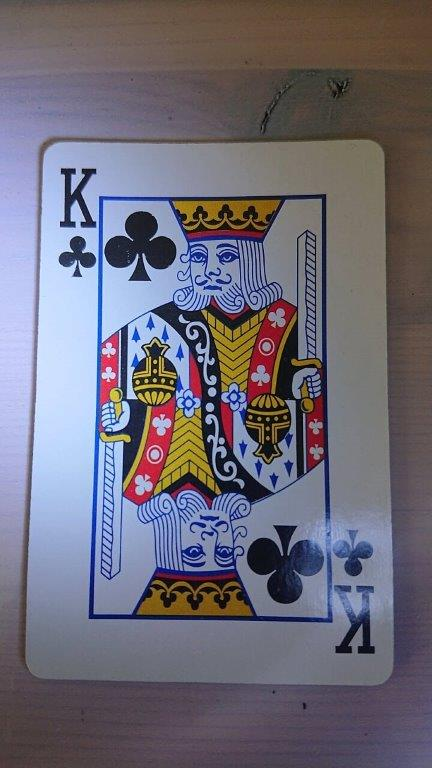KC: (21, 136, 397, 689)
